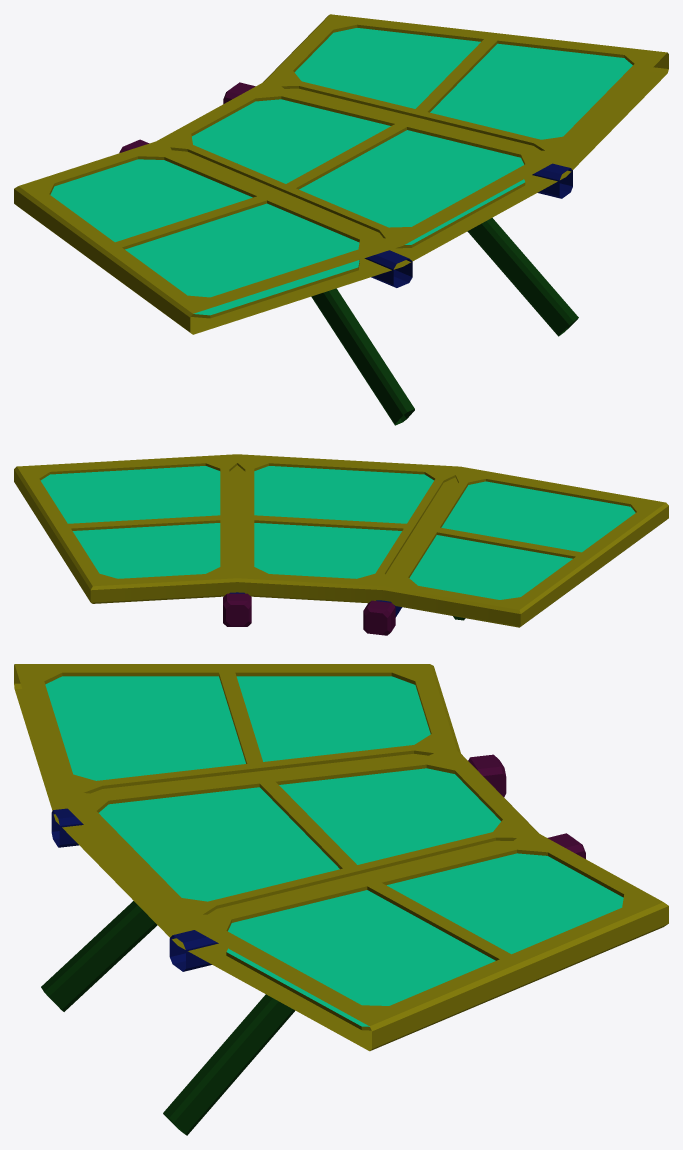
File: OBJ_Platfrome_HUB.fbx
3 views of the same model, one above another, from view 1: azimuth 30°, elevation 25°; view 2: azimuth 150°, elevation 25°; view 3: azimuth 270°, elevation 25° (orthographic). The views are drawn at different scales.
Visible parts, largest first — view 1: Platfrome_HUB_LP; view 2: Platfrome_HUB_LP; view 3: Platfrome_HUB_LP.
Part boxes in pixels (bbox=[...]): Platfrome_HUB_LP: bbox=[14, 14, 668, 425]; Platfrome_HUB_LP: bbox=[14, 454, 668, 635]; Platfrome_HUB_LP: bbox=[14, 664, 668, 1135].
Size of the model in its own units: 53.83 by 14.73 by 40.78.
